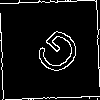G: (25, 25, 86, 86)
